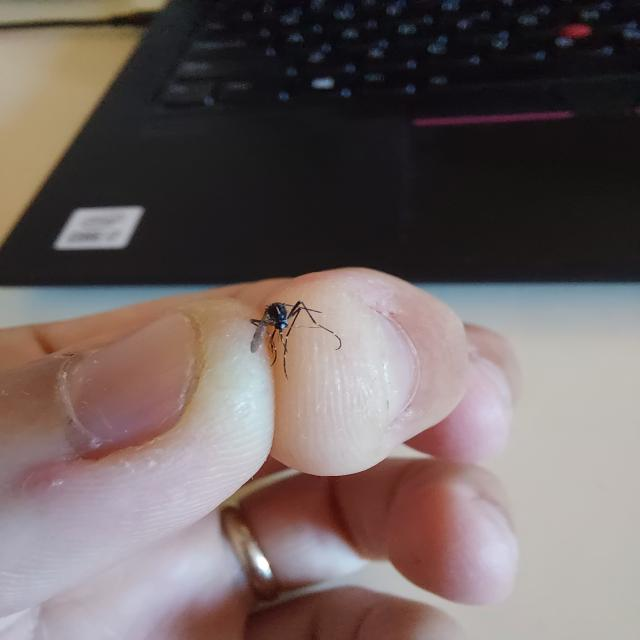albopictus: (241, 286, 347, 379)
